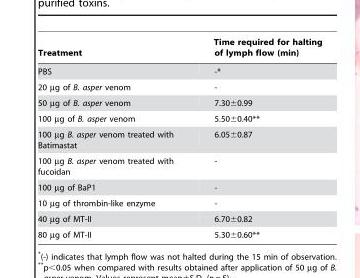table: (37, 37, 321, 239)
table column: (37, 37, 192, 239), (192, 37, 321, 239)
table column header: (37, 37, 321, 61)
table row: (37, 151, 321, 178), (37, 125, 321, 151), (37, 37, 321, 61), (37, 61, 321, 78), (37, 93, 321, 109), (37, 109, 321, 125), (37, 178, 321, 194), (37, 209, 321, 225), (37, 78, 321, 93), (37, 194, 321, 209), (37, 225, 321, 239)
